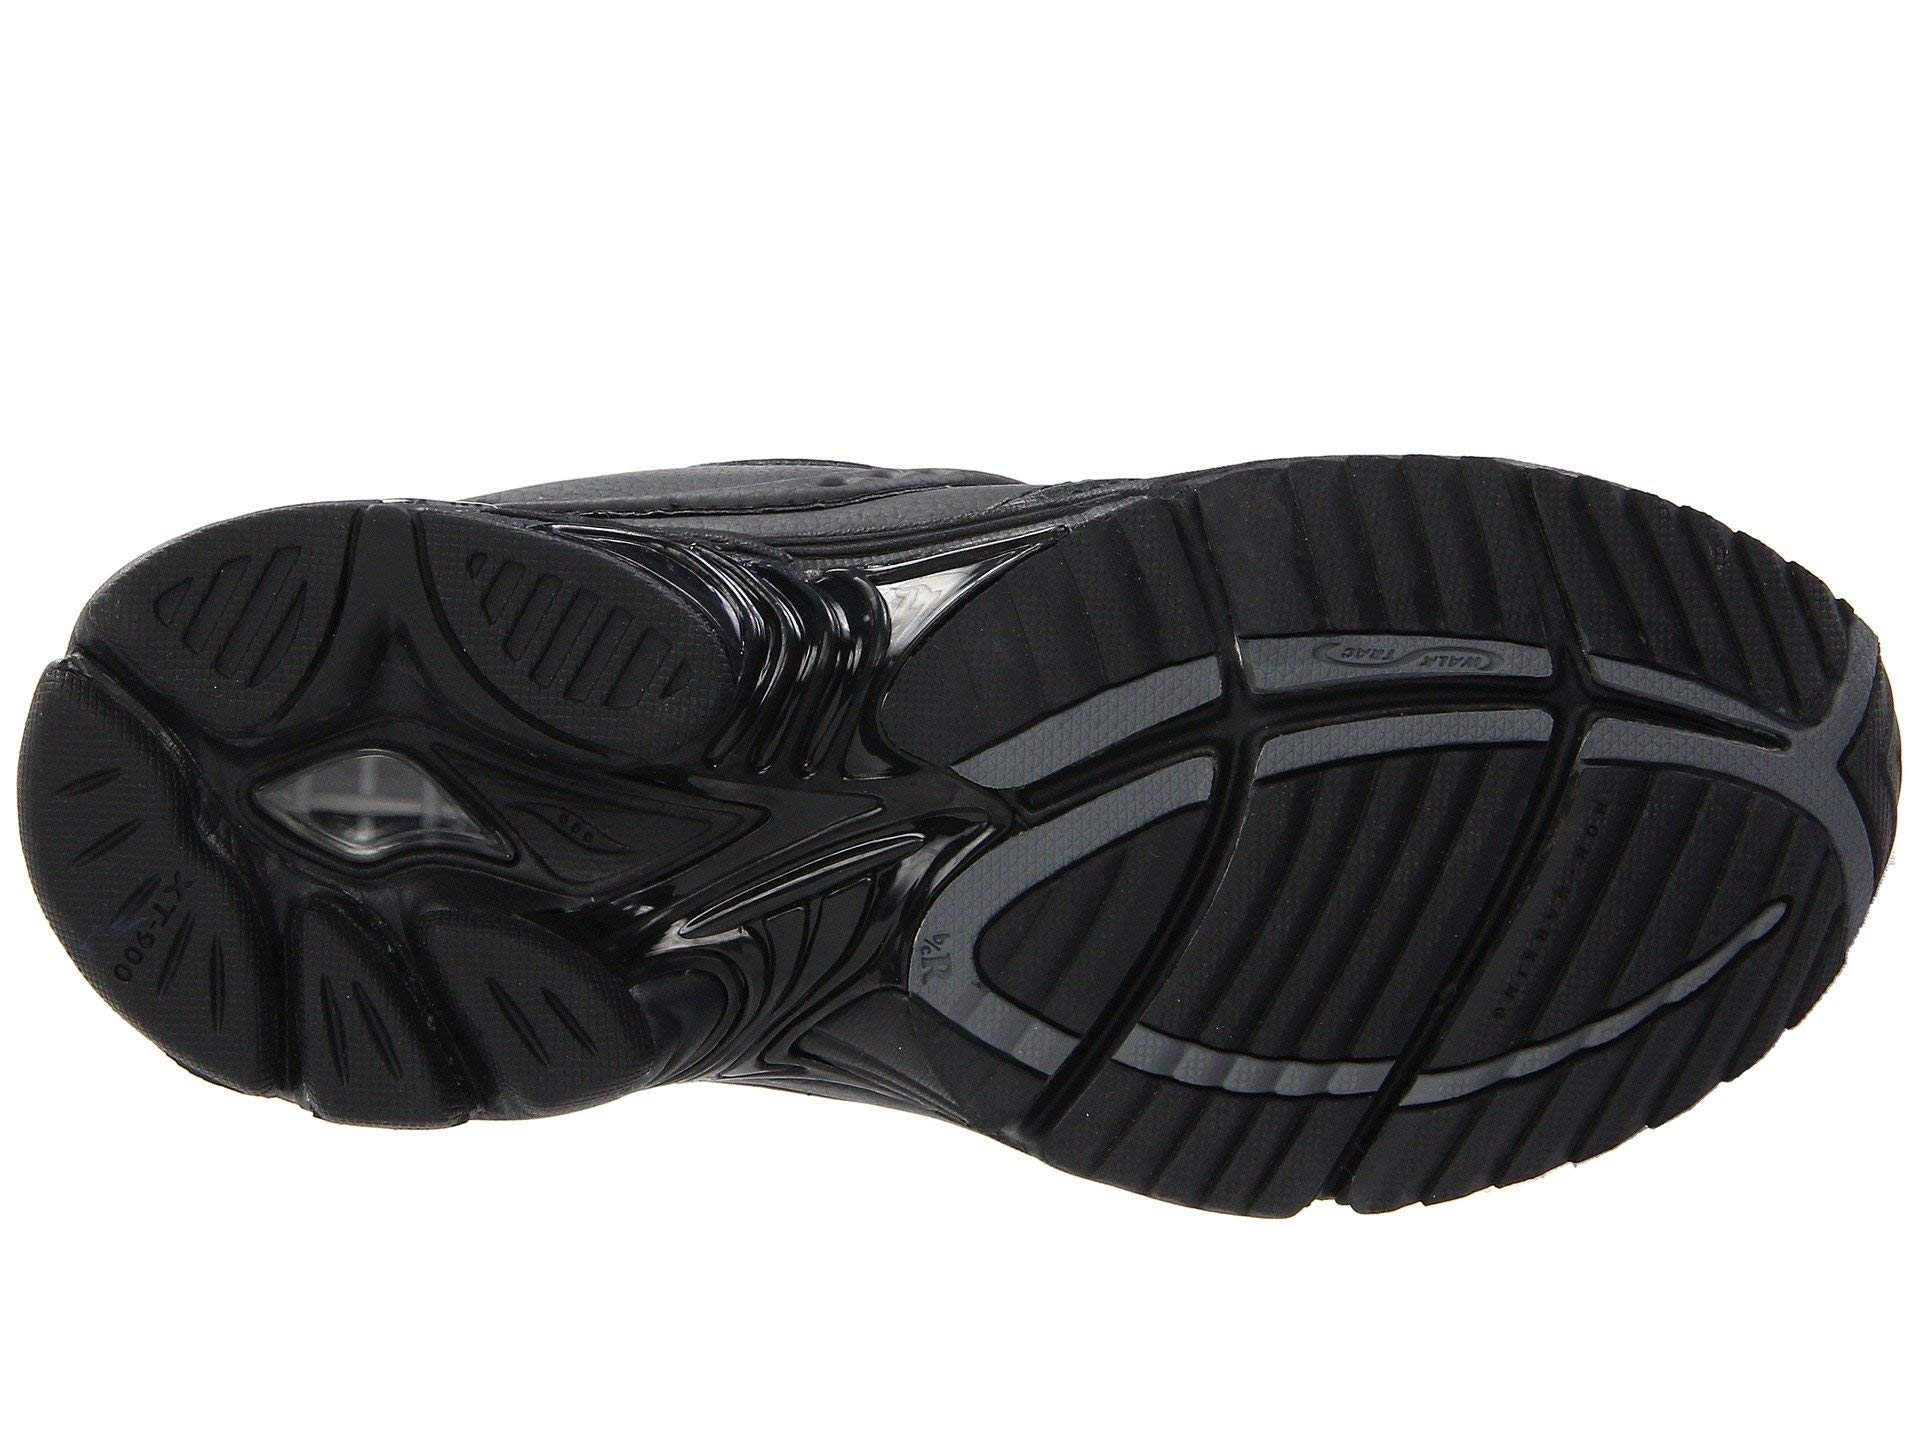chevron: (903, 912, 1039, 1041)
line: (42, 464, 393, 771), (1229, 791, 1479, 1032), (259, 880, 482, 1141), (1491, 788, 1725, 1023), (1297, 557, 1509, 759), (57, 833, 248, 1035)
quad: (42, 464, 393, 771), (434, 718, 771, 964)
text: (1491, 788, 1725, 1023), (1297, 557, 1509, 759), (57, 833, 248, 1035), (903, 912, 1039, 1041)
triangle: (42, 464, 393, 771), (434, 718, 771, 964), (259, 880, 482, 1141)
